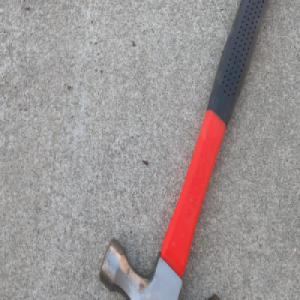Hammer: (98, 0, 269, 300)
